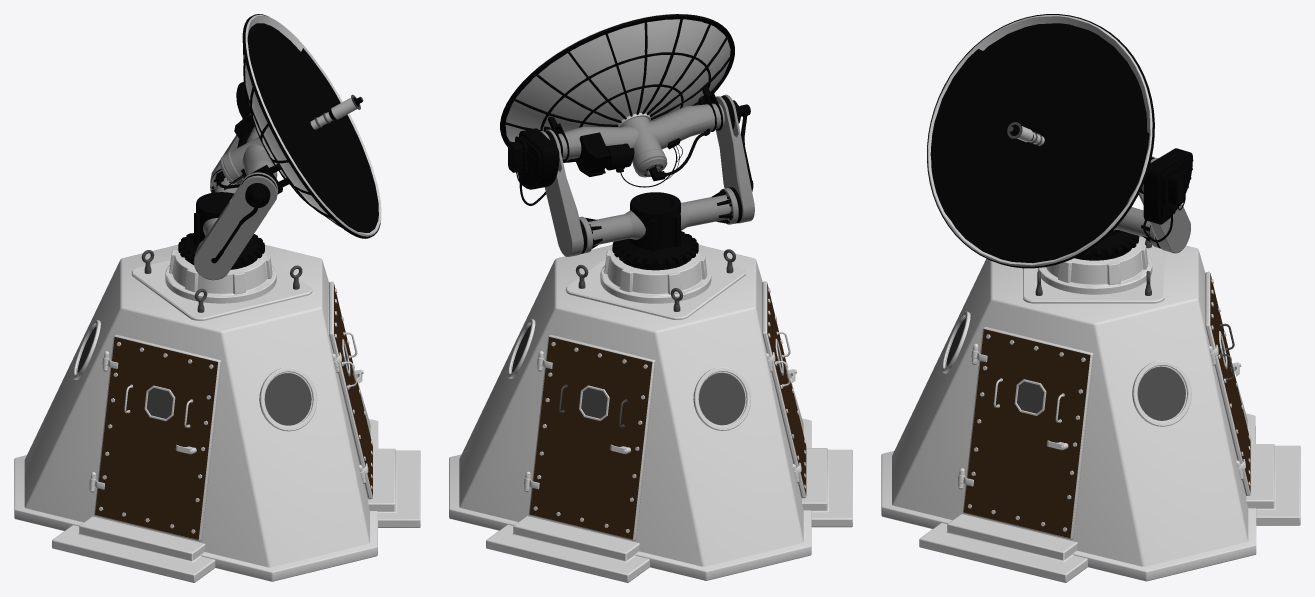
File: radar.fbx
The picture shows the model from 3 angles, left to right: view 1: azimuth 30°, elevation 25°; view 2: azimuth 150°, elevation 25°; view 3: azimuth 270°, elevation 25°; orthographic projection. The views are drawn at different scales.
Parts seen in each view (by area): view 1: antenna_13, dish; view 2: antenna_13, dish; view 3: antenna_13, dish.
Part boxes in pixels (left/top/right/bottom): antenna_13: left=14, top=245, right=420, bottom=582; dish: left=178, top=14, right=381, bottom=280; antenna_13: left=449, top=245, right=852, bottom=582; dish: left=500, top=14, right=754, bottom=270; antenna_13: left=881, top=236, right=1300, bottom=582; dish: left=927, top=14, right=1193, bottom=268.
Size of the model in its own units: 25029 by 30333 by 23940.
